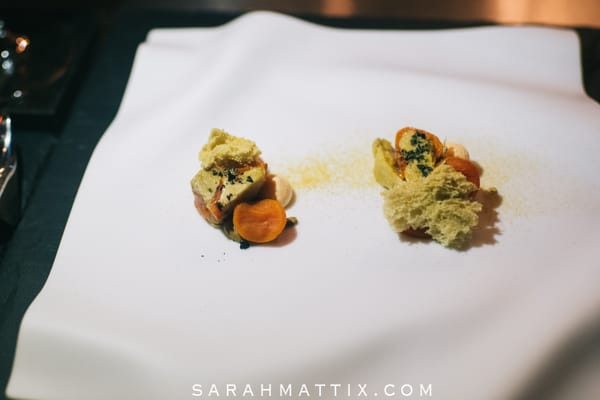curry: (0, 3, 591, 397)
